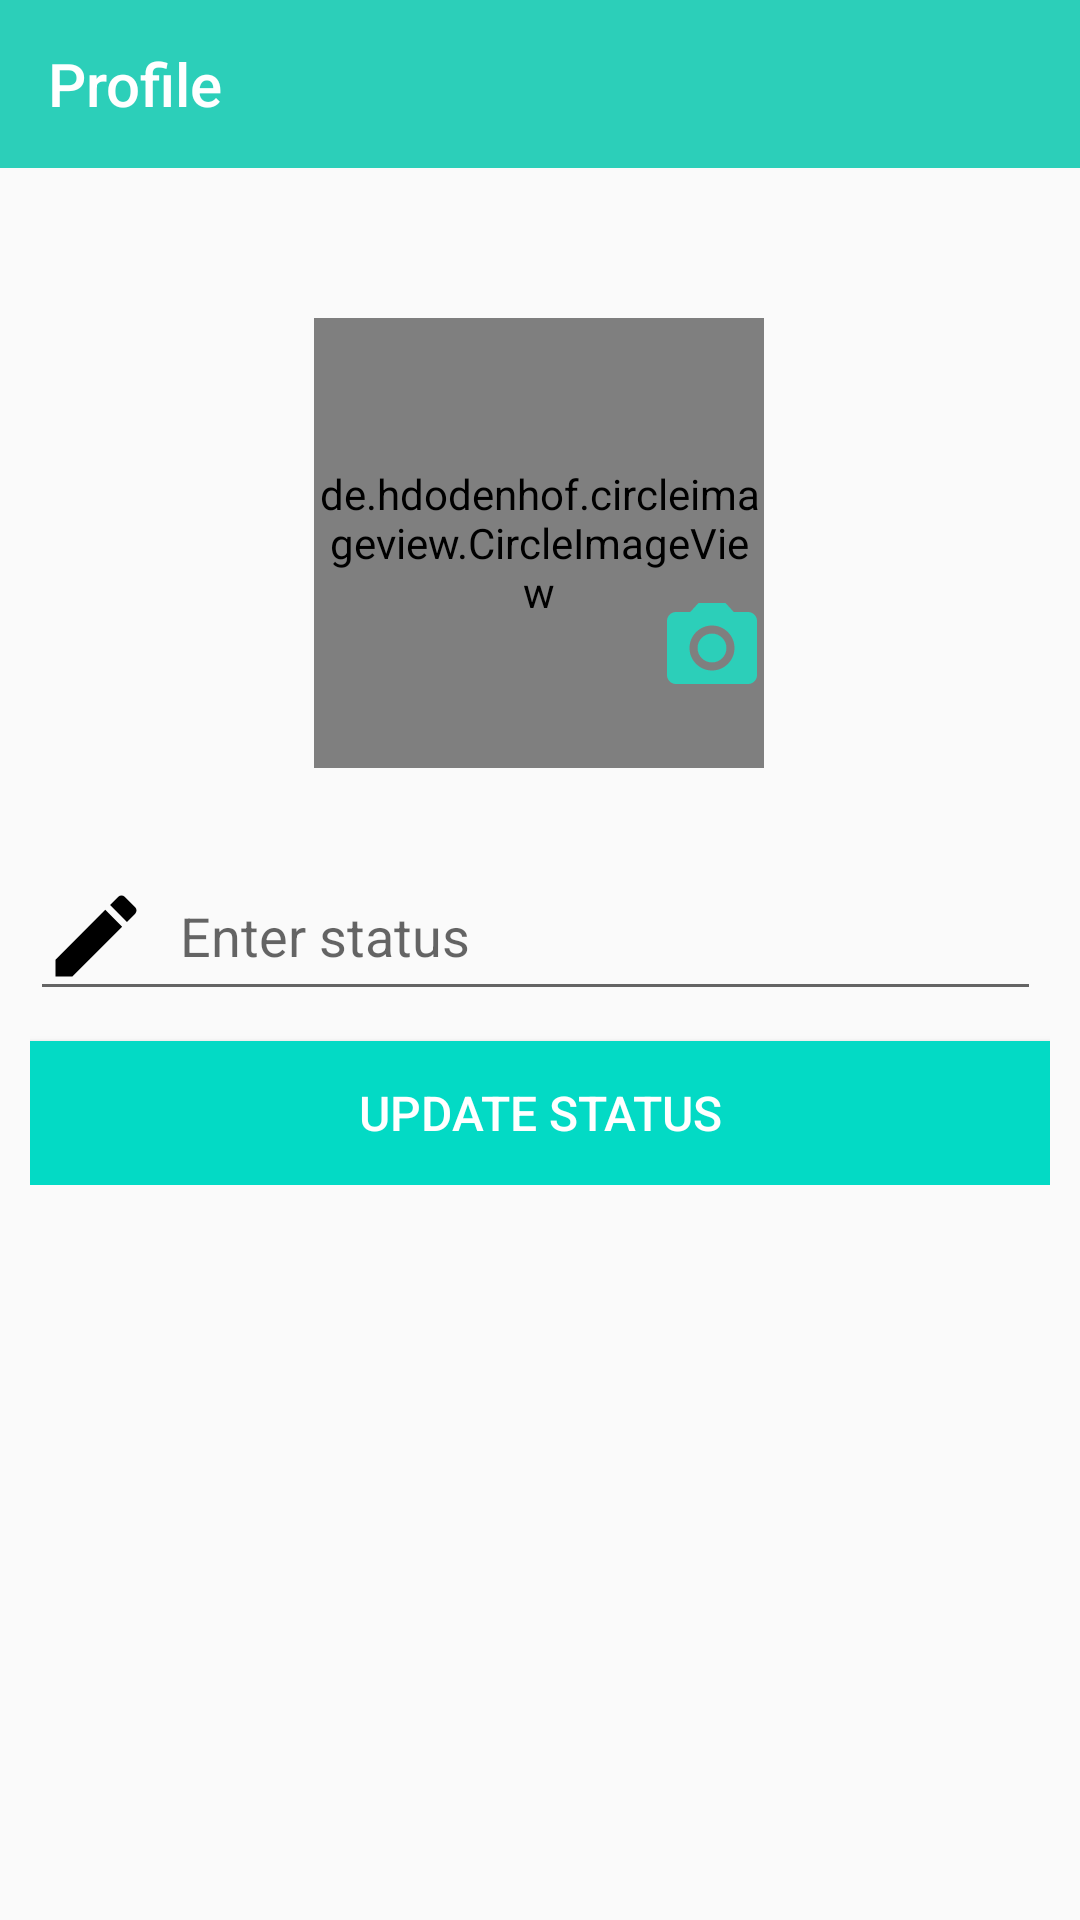

Where to tap for icons on this 1080w x 1920h app screen, as (x=x, y=y):
photo camera: (x=712, y=643)
